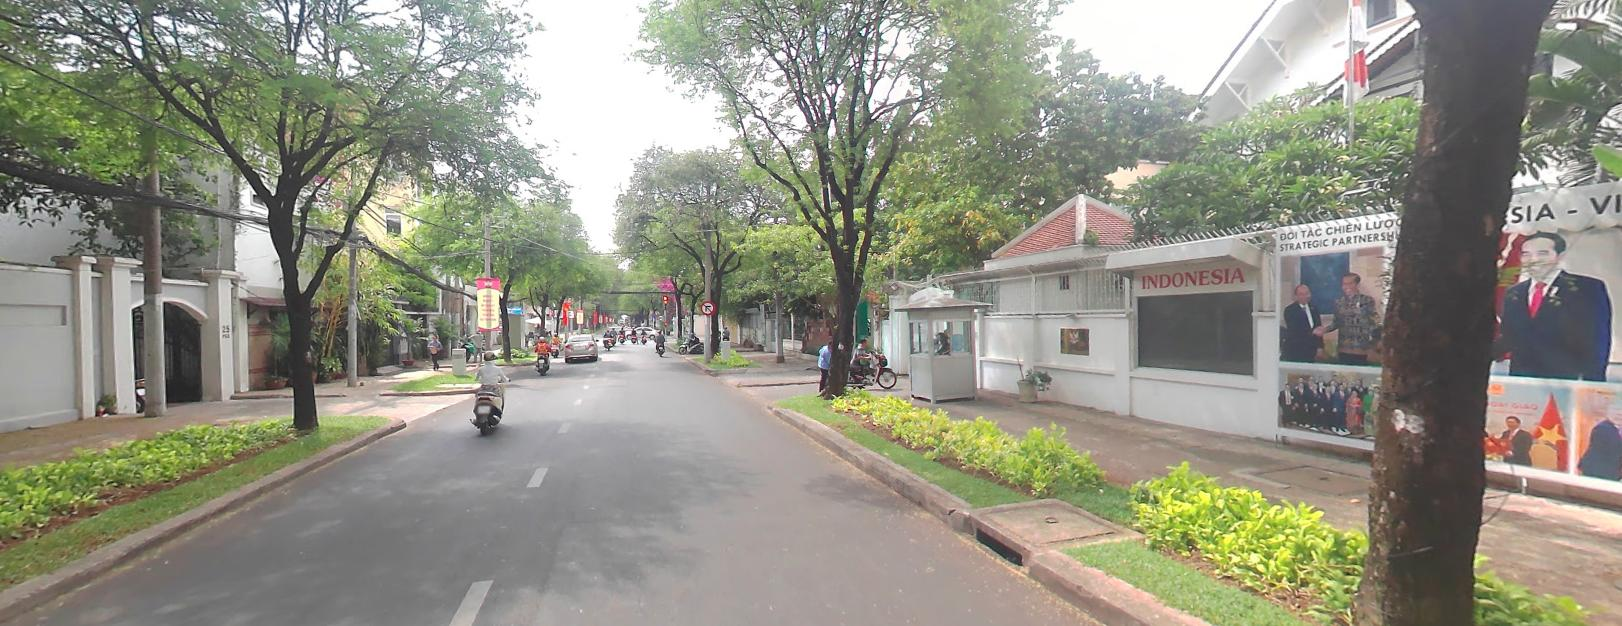Cam re: (700, 299, 715, 312), (700, 298, 714, 312)
